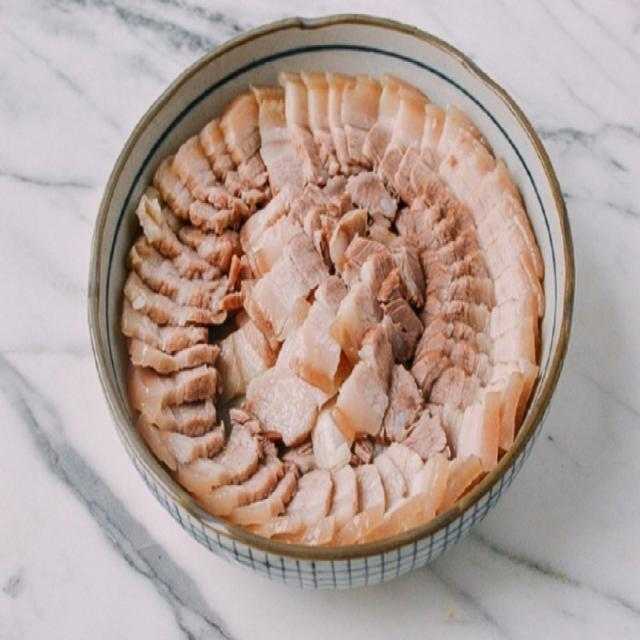thit luoc: (120, 73, 545, 544)
